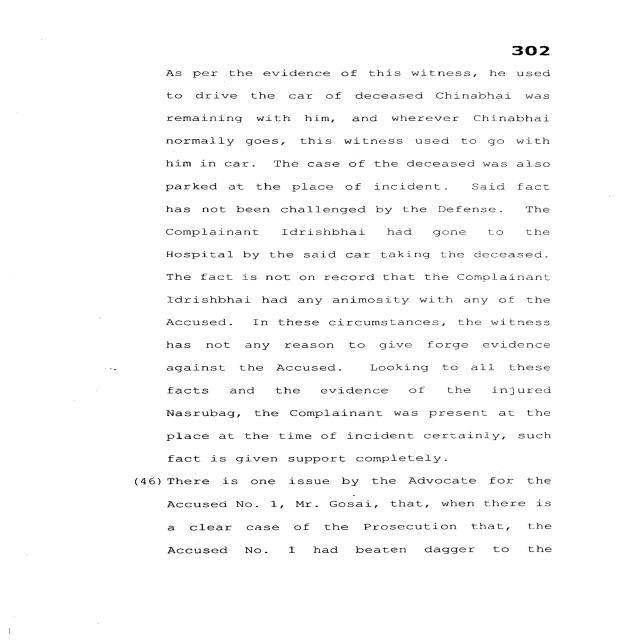page-number: (430, 0, 632, 61)
